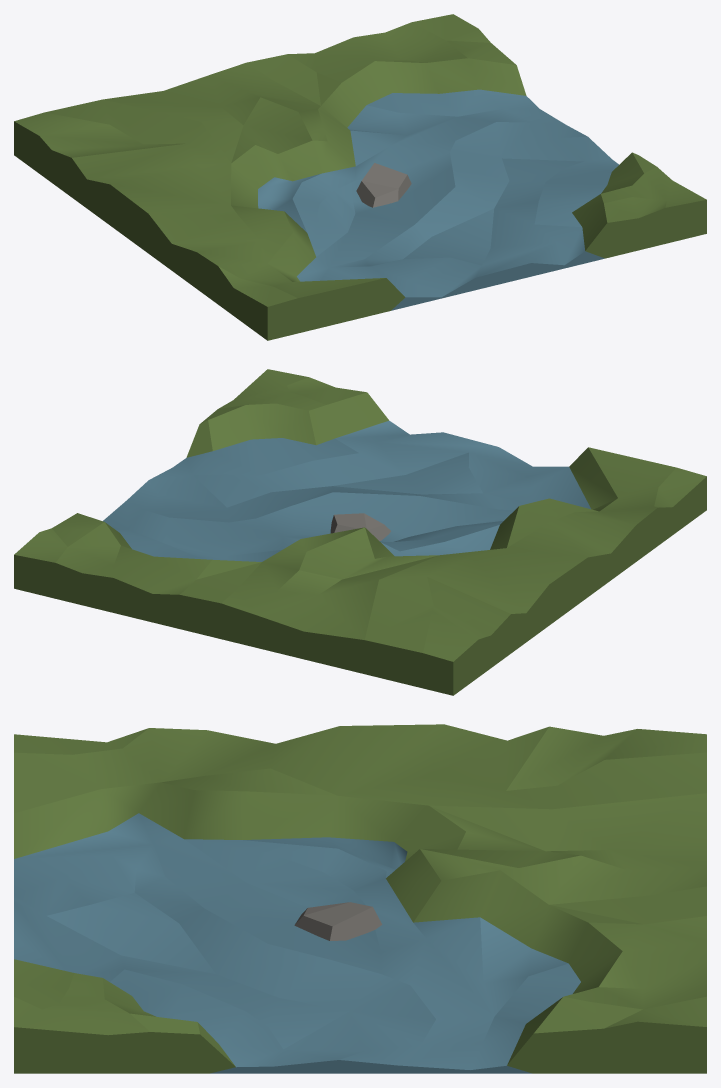
File: Water_Turn_LU.glb
The picture shows the model from 3 angles, top to bottom: view 1: azimuth 30°, elevation 25°; view 2: azimuth 150°, elevation 25°; view 3: azimuth 270°, elevation 25°; orthographic projection. The views are drawn at different scales.
Parts seen in each view (by area): view 1: Water_Turn_LU; view 2: Water_Turn_LU; view 3: Water_Turn_LU.
Part boxes in pixels (bbox=[...]): Water_Turn_LU: bbox=[14, 14, 706, 340]; Water_Turn_LU: bbox=[14, 369, 706, 695]; Water_Turn_LU: bbox=[14, 724, 706, 1073].
Bounding box in the file's own units: 1.47 × 0.1465 × 1.47.
